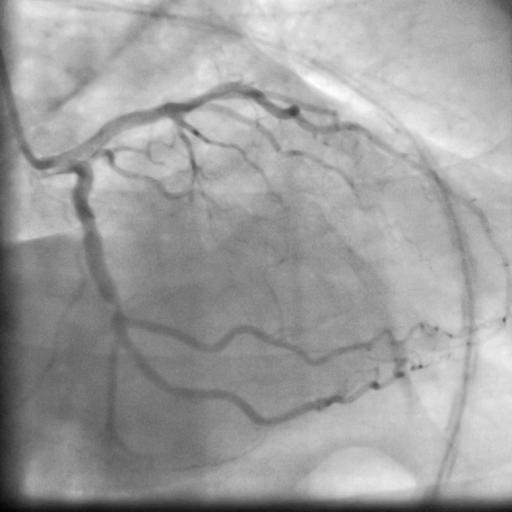Stenosis: (101, 293, 124, 316)
